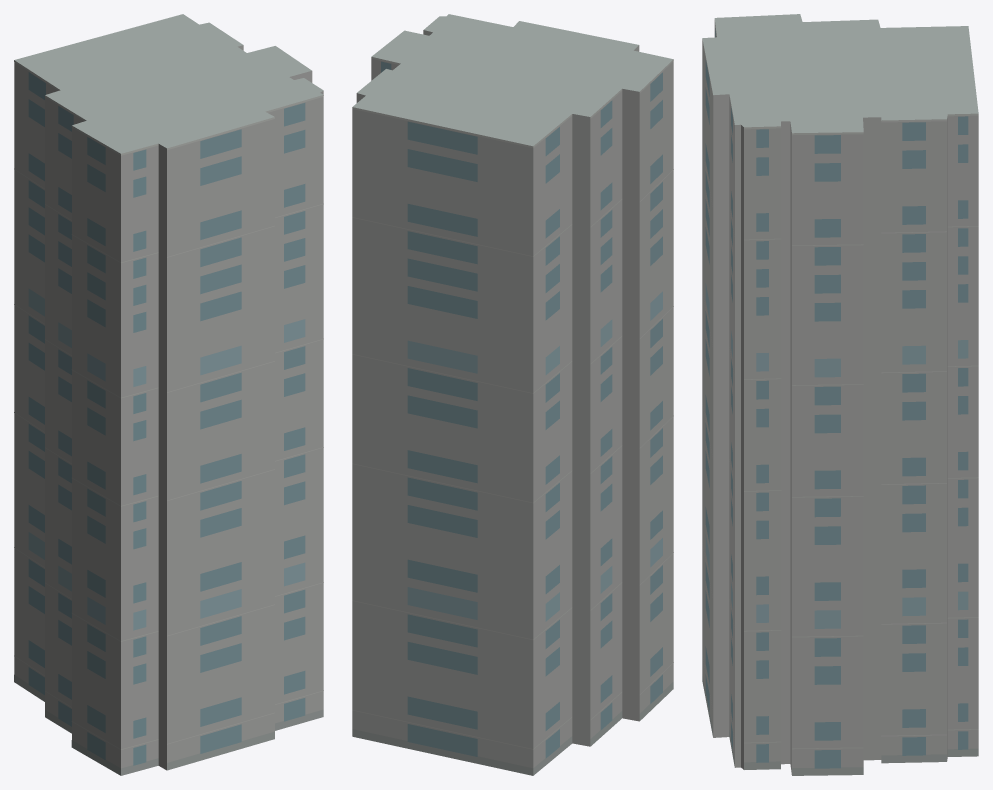
The model's file is survey-upis-32689210.glb.
3 renders of one model, left to right at view 1: azimuth 30°, elevation 25°; view 2: azimuth 150°, elevation 25°; view 3: azimuth 270°, elevation 25°, orthographic. The views are drawn at different scales.
Parts seen in each view (by area): view 1: survey-upis-32689210.tmp; view 2: survey-upis-32689210.tmp; view 3: survey-upis-32689210.tmp.
Part boxes in pixels (x1,y1,x2,y2): survey-upis-32689210.tmp: (14, 14, 323, 775); survey-upis-32689210.tmp: (352, 14, 673, 775); survey-upis-32689210.tmp: (702, 14, 978, 775).
Bounding box in the file's own units: 31.32 × 78.7 × 30.69.
